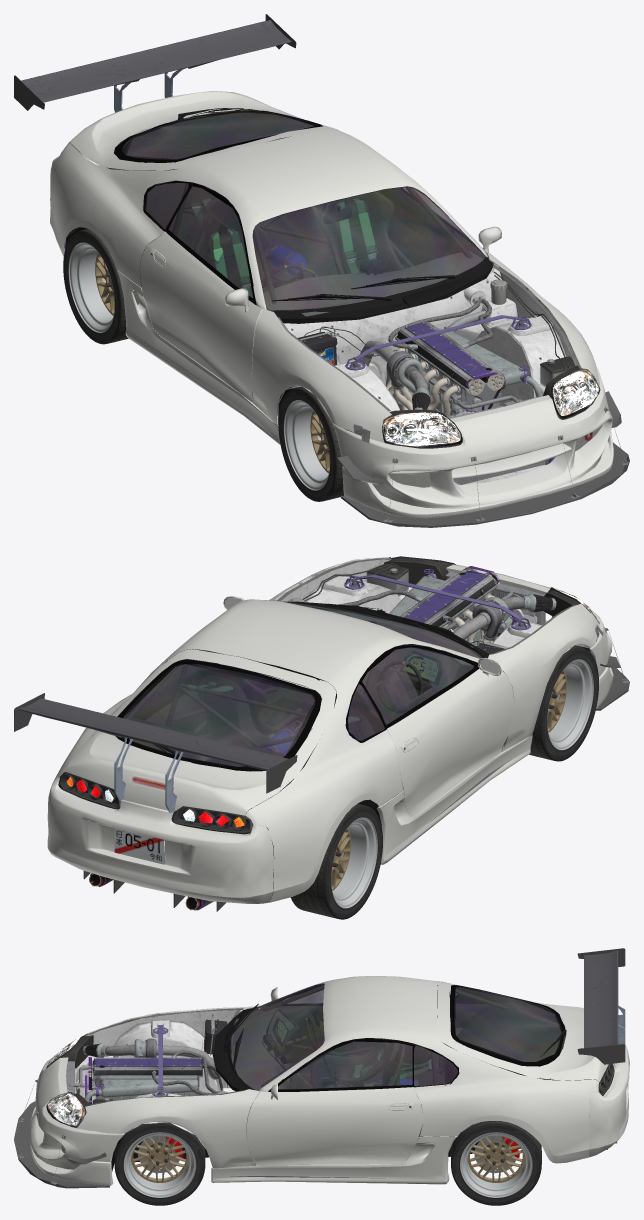
The model's file is jdm.glb.
3 renders of one model, top to bottom at view 1: azimuth 30°, elevation 25°; view 2: azimuth 150°, elevation 25°; view 3: azimuth 270°, elevation 25°, orthographic. The views are drawn at different scales.
Visible parts, largest first — view 1: glass_Glass_0, Main_Body_Livery_0, Front_Bumper_Livery_0, engine bay_engine bay_0, interior.002_interior1_0, Doors_Livery_0, Front_Sides_Livery_0, Cube.004_Engine2_0, Spoiler_Spoiler_0, Trunk_Livery_0, Circle.056_wheel_0, Circle.054_wheel_0 (+13 smaller); view 2: Main_Body_Livery_0, glass_Glass_0, Rear_Bumper_Livery_0, Trunk_Livery_0, Doors_Livery_0, engine bay_engine bay_0, Spoiler_Spoiler_0, Circle.054_wheel_0, Front_Sides_Livery_0, interior.002_interior1_0, Circle.056_wheel_0, Cube.004_Engine2_0 (+17 smaller); view 3: Main_Body_Livery_0, glass_Glass_0, Doors_Livery_0, interior.002_interior1_0, Front_Sides_Livery_0, Circle.077_wheel_0, Circle.080_wheel_0, engine bay_engine bay_0, Skirts_Livery_0, Front_Bumper_Livery_0, Cube.004_Engine2_0, Spoiler_Spoiler_0 (+18 smaller).
Boxes of the visible parts, x1,y1,x2,y2 form: glass_Glass_0: (122,111,485,310); Main_Body_Livery_0: (53,108,487,309); Front_Bumper_Livery_0: (332,367,613,518); engine bay_engine bay_0: (277,263,602,487); interior.002_interior1_0: (113,112,483,316); Doors_Livery_0: (139,231,498,402); Front_Sides_Livery_0: (251,254,599,442); Cube.004_Engine2_0: (298,272,568,484); Spoiler_Spoiler_0: (14,14,296,112); Trunk_Livery_0: (69,91,336,170); Circle.056_wheel_0: (278,386,343,501); Circle.054_wheel_0: (63,229,128,344); Main_Body_Livery_0: (56,599,479,902); glass_Glass_0: (123,600,482,766); Rear_Bumper_Livery_0: (47,776,273,903); Trunk_Livery_0: (66,649,336,815); Doors_Livery_0: (387,668,514,816); engine bay_engine bay_0: (276,558,597,734); Spoiler_Spoiler_0: (14,693,297,813); Circle.054_wheel_0: (290,803,382,919); Front_Sides_Livery_0: (269,564,599,751); interior.002_interior1_0: (124,609,479,790); Circle.056_wheel_0: (529,645,598,761); Cube.004_Engine2_0: (302,563,556,654); Main_Body_Livery_0: (258,976,598,1163); glass_Glass_0: (232,983,561,1090); Doors_Livery_0: (246,1005,422,1165); interior.002_interior1_0: (231,1002,566,1154); Front_Sides_Livery_0: (77,1007,259,1168); Circle.077_wheel_0: (451,1121,541,1205); Circle.080_wheel_0: (114,1122,205,1205); engine bay_engine bay_0: (47,1007,252,1153); Skirts_Livery_0: (211,1136,457,1184); Front_Bumper_Livery_0: (30,1057,124,1185); Cube.004_Engine2_0: (66,1013,235,1104); Spoiler_Spoiler_0: (577,948,625,1064).
Size of the model in its own units: 241 by 170 by 595.
Materials: 30 (23 with a texture image).
